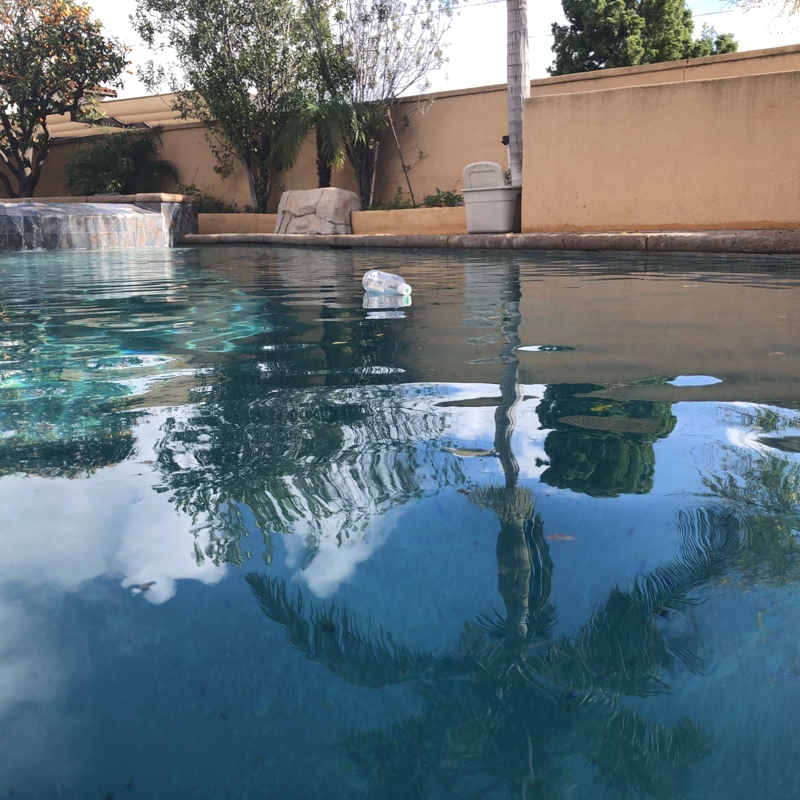Plastic Bottle: (361, 266, 415, 300)
